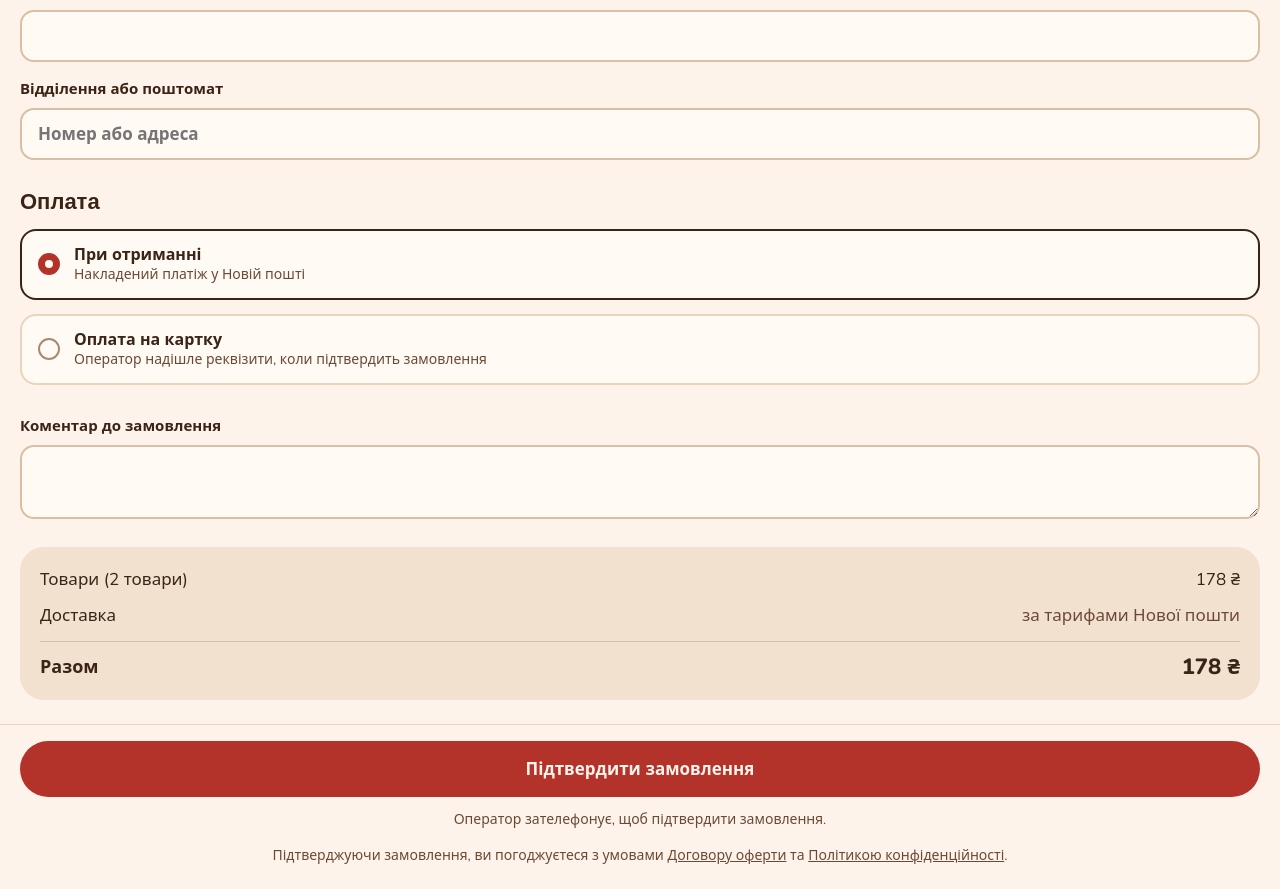
Test: shows validation errors and does not submit an incomplete form
The width and height of the screenshot is (1280, 889).
(page scrolled)
What coordinates should you click on to do the following:
click the button "Підтвердити замовлення"
I would click on:
 (640, 769)
Its box is [20,741,1260,797].
(page scrolled)
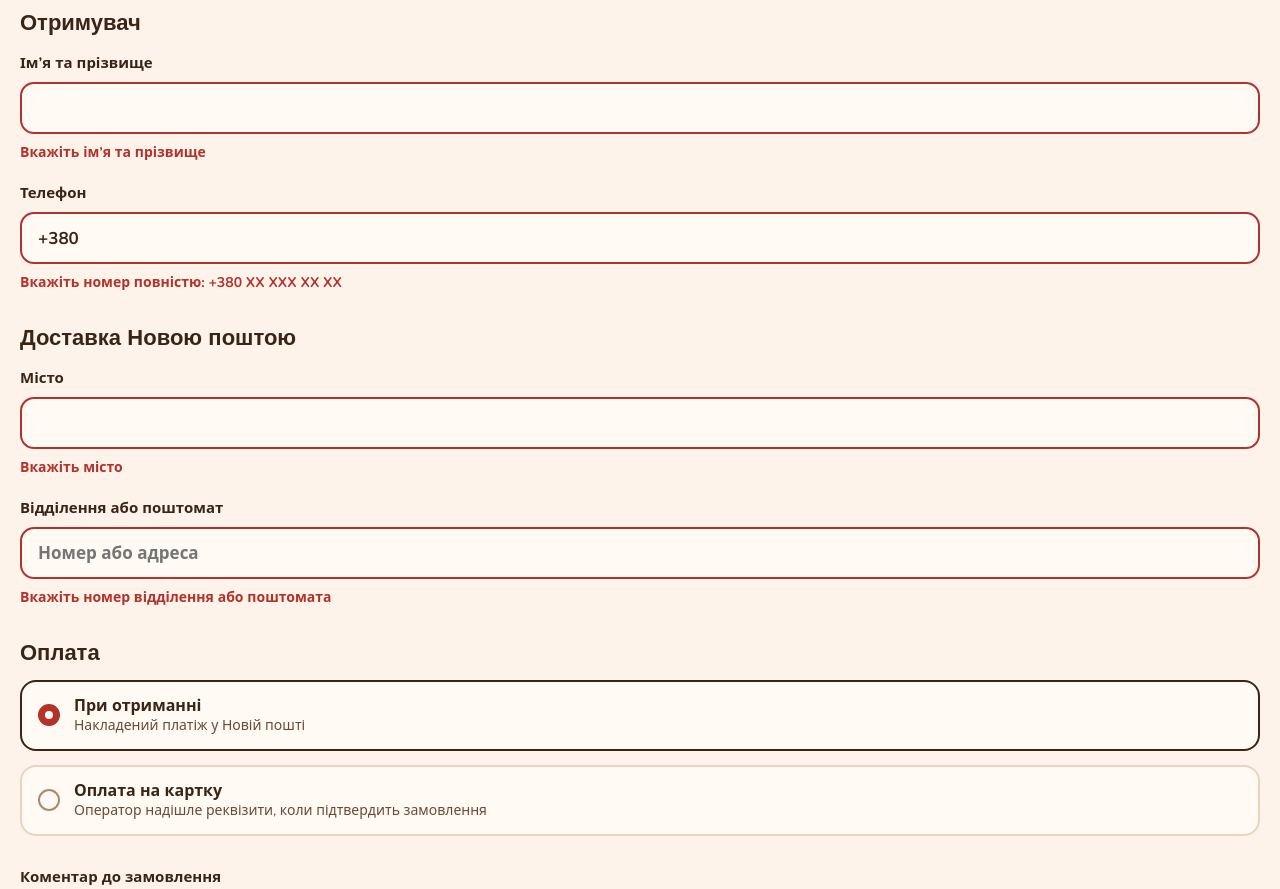
Result: the text "Вкажіть ім’я та прізвище" is shown at [20,143,206,162]
Result: the text "Вкажіть номер повністю: +380 XX XXX XX XX" is shown at [20,273,342,292]
